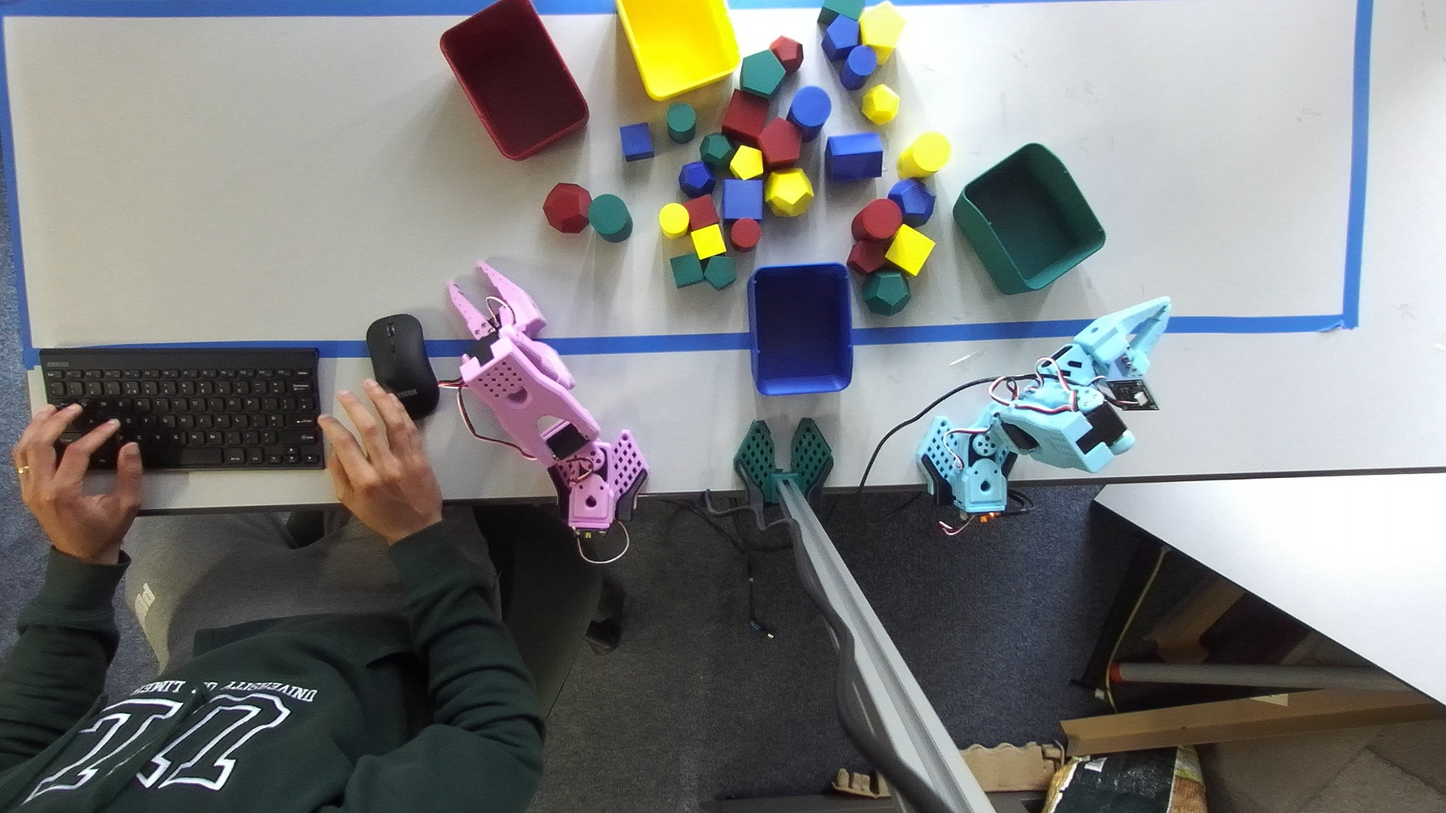bin: (440, 0, 588, 160), (954, 144, 1105, 292), (746, 263, 853, 395), (615, 0, 740, 100)
cube: (721, 89, 769, 147), (886, 225, 935, 275), (721, 178, 763, 221), (620, 123, 654, 161), (685, 194, 718, 231), (670, 252, 703, 288), (691, 224, 725, 258), (819, 0, 864, 23)
cylinder: (897, 132, 950, 178), (787, 86, 831, 139), (587, 193, 632, 242), (852, 199, 901, 239), (840, 45, 877, 90), (666, 102, 696, 143), (658, 202, 689, 237), (731, 218, 761, 250)
dodecahedron: (543, 183, 590, 233), (888, 178, 935, 227), (862, 269, 911, 315), (766, 168, 813, 215), (862, 84, 899, 124), (699, 132, 735, 171), (678, 162, 715, 198), (769, 35, 803, 72)
gripper: (447, 260, 547, 340), (1074, 296, 1170, 376)
hexagonal: (859, 0, 905, 62), (825, 132, 882, 181), (759, 117, 801, 170), (740, 50, 786, 97), (822, 14, 859, 61), (847, 239, 889, 275), (729, 145, 763, 179), (703, 254, 735, 289)
